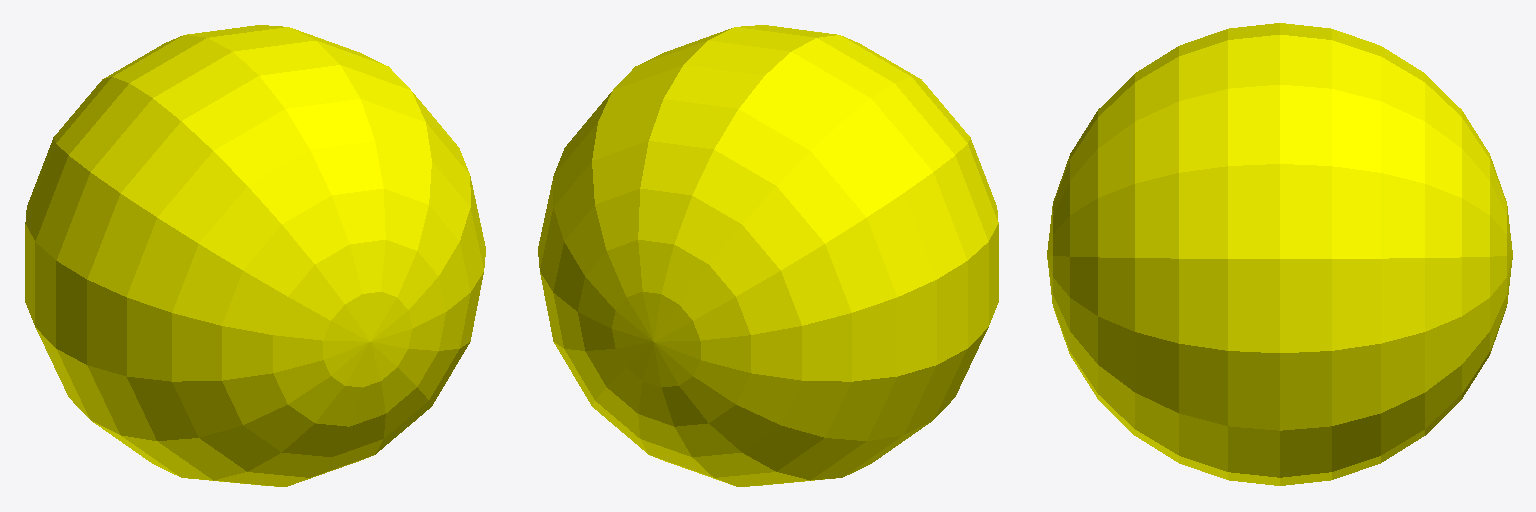
Rendered from fictiveObject.obj.
The picture shows the model from 3 angles: view 1: azimuth 30°, elevation 25°; view 2: azimuth 150°, elevation 25°; view 3: azimuth 270°, elevation 25°; orthographic projection.
Visible parts, largest first — view 1: unnamed_object1; view 2: unnamed_object1; view 3: unnamed_object1.
Boxes of the visible parts, x1,y1,x2,y2 form: unnamed_object1: [25, 25, 485, 486]; unnamed_object1: [538, 25, 998, 486]; unnamed_object1: [1047, 23, 1512, 485].
Bounding box in the file's own units: 0.0593 × 0.0597 × 0.06.